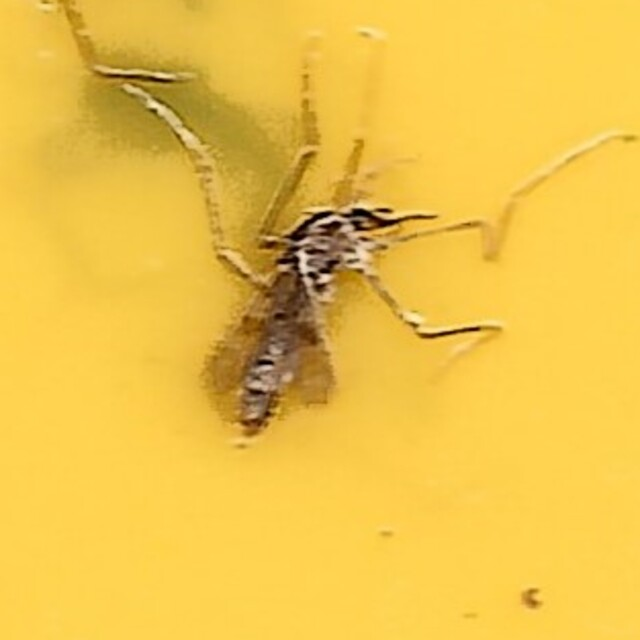Nematocera: (204, 186, 436, 454)
